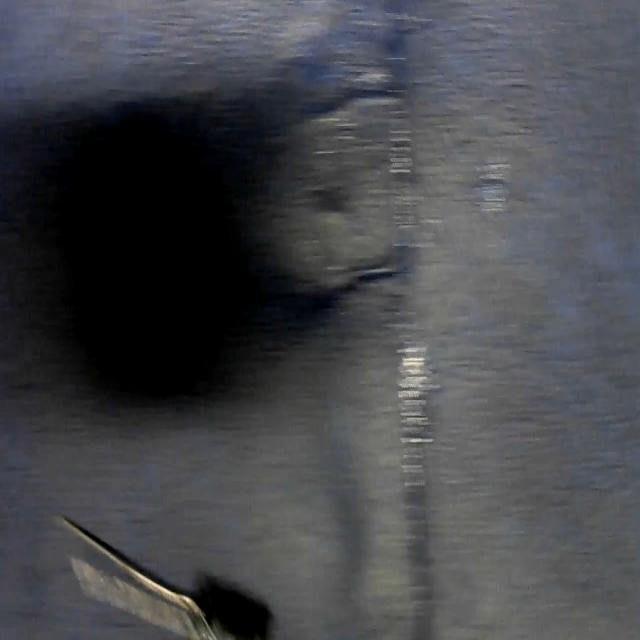capacitor: (56, 505, 272, 640)
